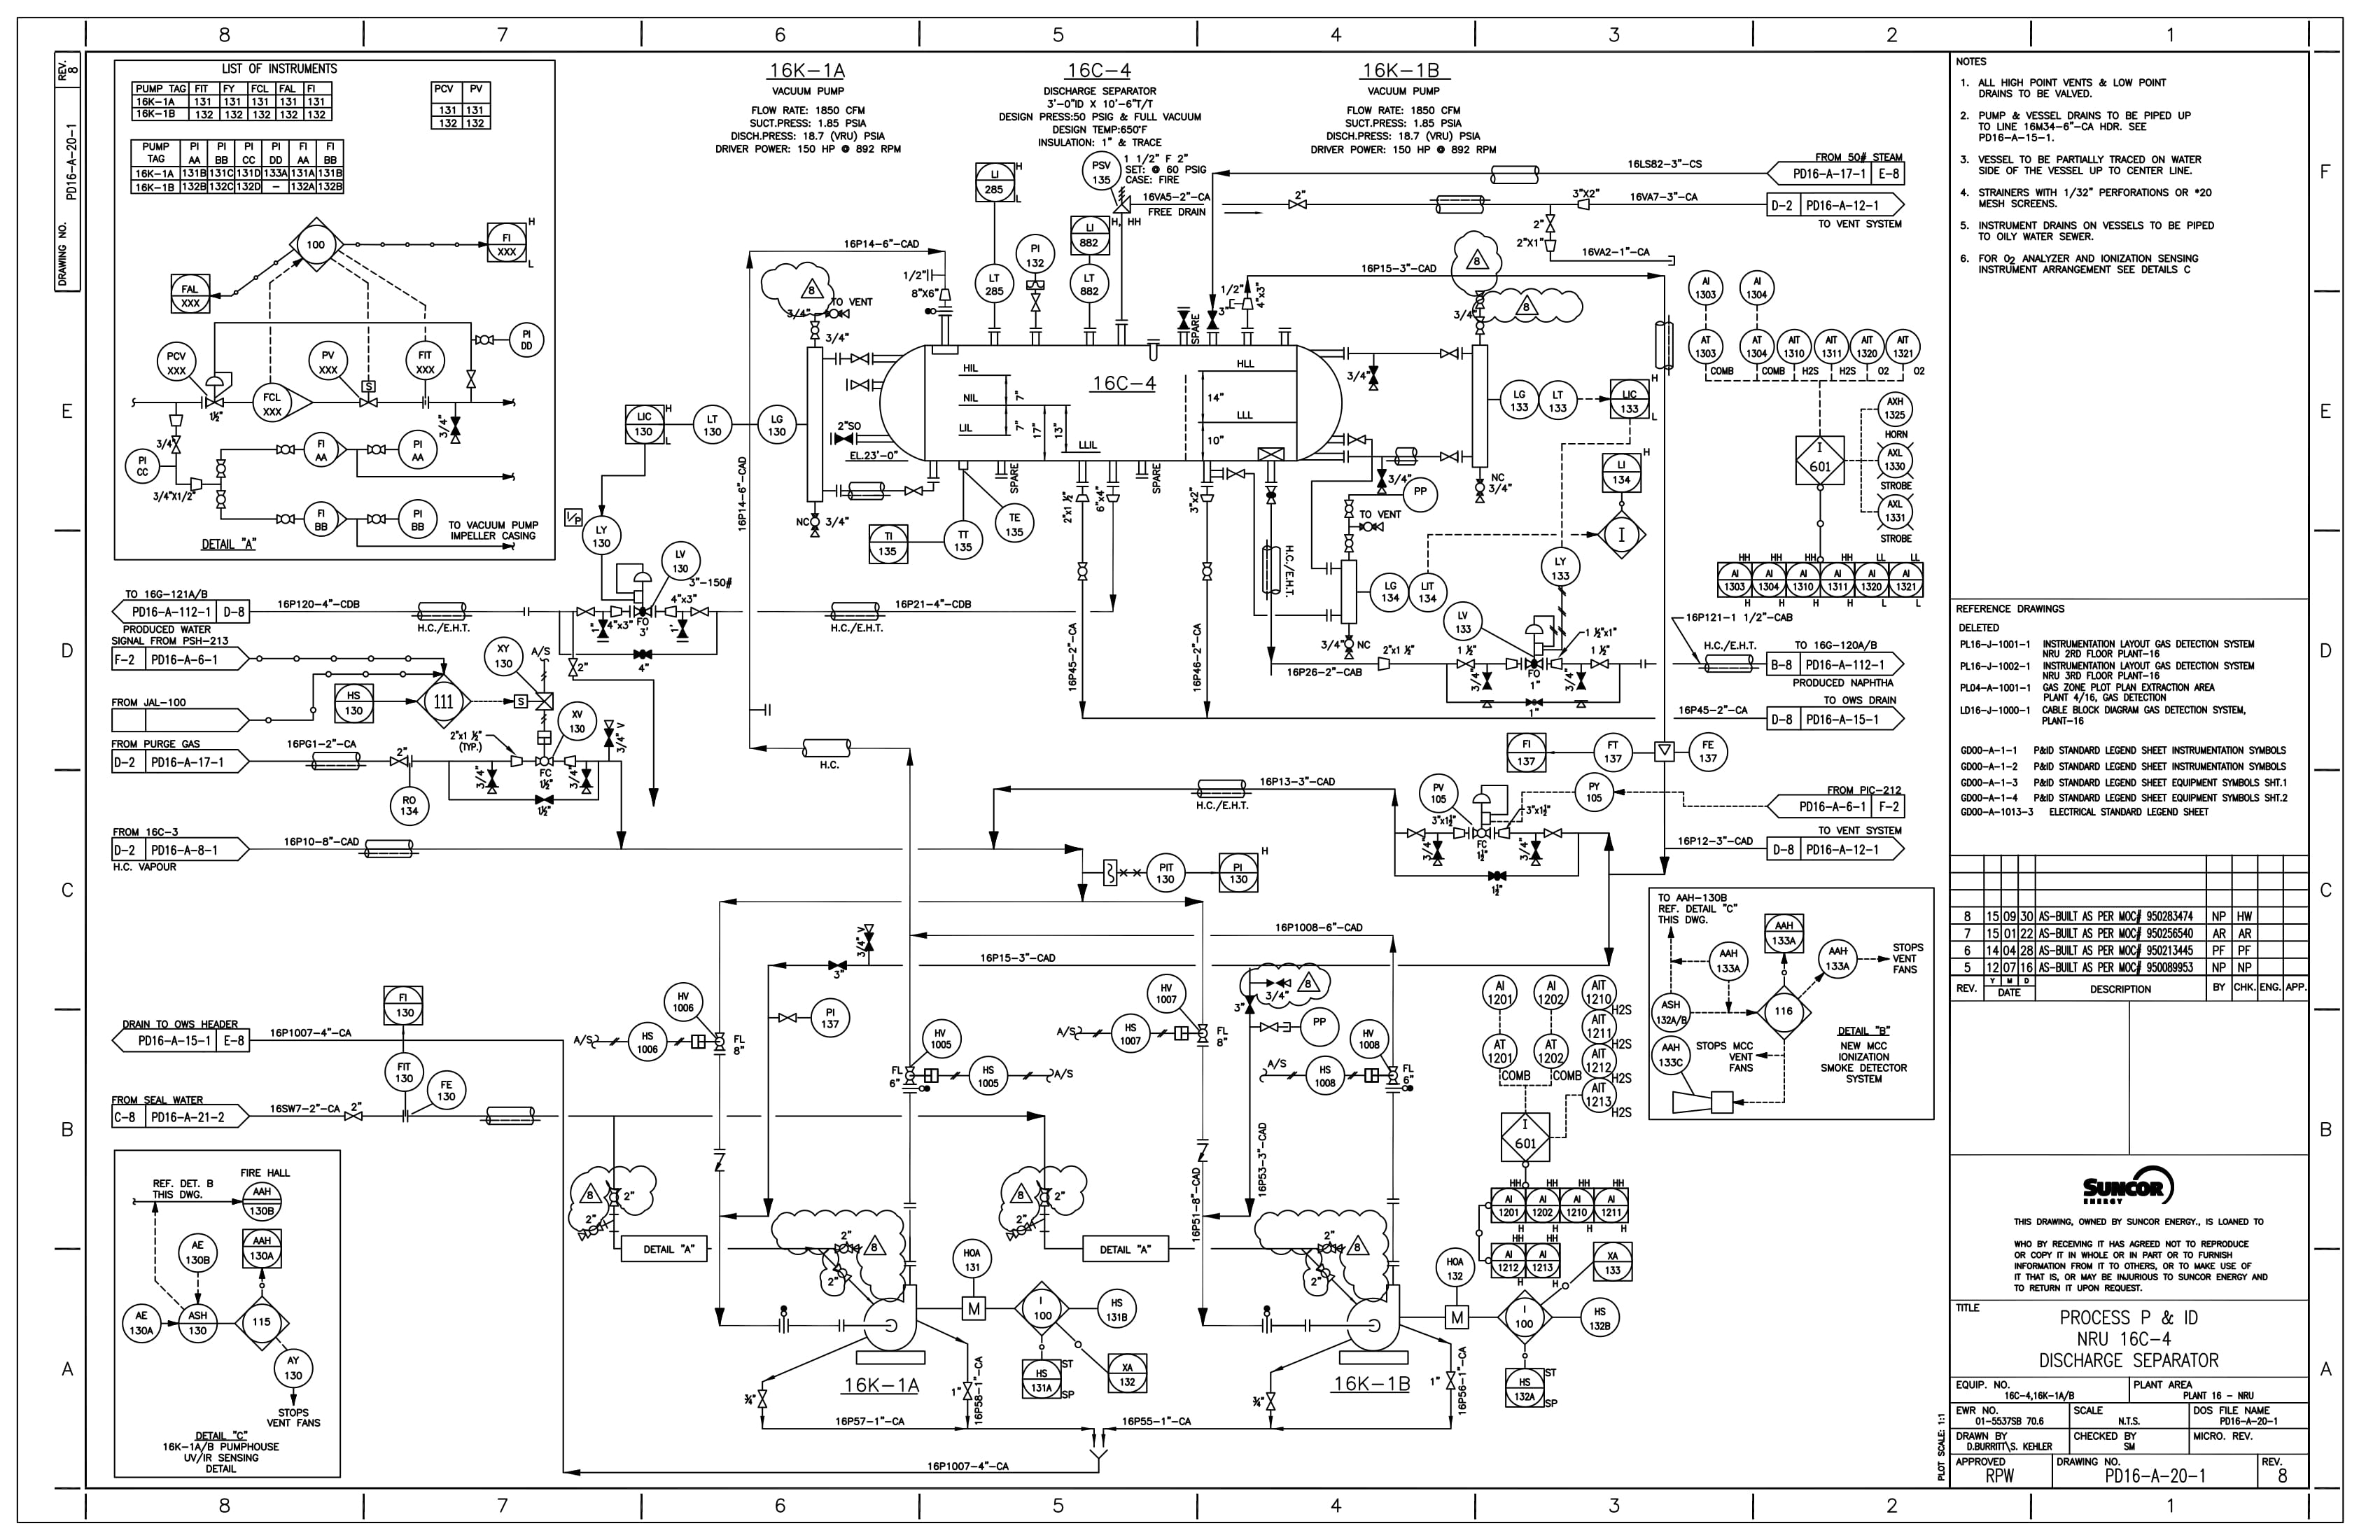Inline Instrument: (1577, 1294, 1636, 1349), (1108, 1009, 1161, 1070), (657, 532, 711, 588), (1573, 770, 1627, 822), (964, 262, 1020, 312), (1589, 720, 1638, 777), (810, 992, 855, 1053), (1686, 725, 1736, 777), (475, 631, 527, 680), (1304, 1051, 1351, 1105), (689, 397, 737, 447), (756, 402, 807, 451), (661, 976, 708, 1028), (272, 1342, 319, 1394), (1539, 373, 1582, 428), (1539, 541, 1586, 591), (968, 1049, 1010, 1105), (940, 519, 987, 567), (623, 1021, 670, 1070), (175, 1231, 224, 1278), (997, 499, 1041, 551), (1497, 373, 1539, 427), (1095, 1287, 1141, 1334), (1148, 971, 1193, 1020), (1419, 770, 1464, 819), (918, 1016, 964, 1061), (1651, 1037, 1698, 1082), (120, 1302, 163, 1351), (385, 784, 432, 827), (1147, 850, 1190, 897), (1346, 1018, 1395, 1060), (1011, 232, 1056, 276), (949, 1238, 994, 1282), (557, 701, 600, 746), (1402, 477, 1448, 519), (423, 1072, 472, 1112), (1369, 571, 1412, 614), (385, 1049, 428, 1093), (585, 513, 624, 558), (1433, 1245, 1473, 1289), (1478, 1032, 1520, 1072), (1480, 973, 1518, 1013), (1528, 975, 1568, 1009), (1535, 1027, 1565, 1072), (1586, 976, 1620, 1011)
Panel Instrument: (1599, 369, 1672, 432), (1207, 839, 1273, 904), (1501, 1361, 1572, 1417), (619, 395, 683, 454), (859, 517, 919, 576), (1599, 446, 1662, 501), (1492, 727, 1558, 779), (1067, 203, 1121, 265), (968, 154, 1029, 206), (376, 980, 435, 1032), (1480, 1174, 1537, 1226), (1020, 1354, 1077, 1406), (330, 676, 382, 732), (238, 1223, 288, 1276), (1818, 551, 1861, 610), (1587, 1240, 1638, 1289), (1712, 551, 1757, 605), (1103, 1351, 1154, 1398), (1525, 1235, 1570, 1287), (1887, 555, 1931, 607), (1523, 1178, 1565, 1228), (1594, 1179, 1636, 1228)
